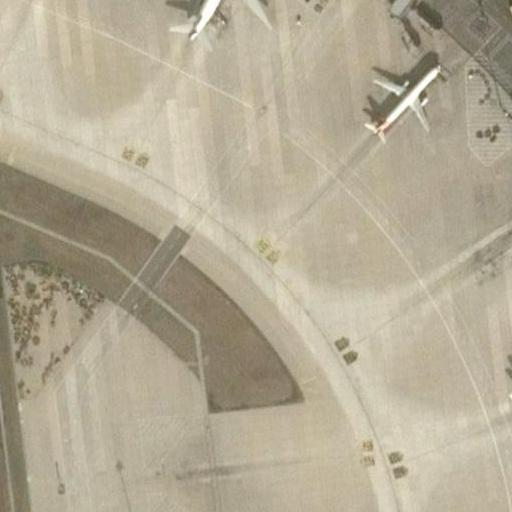Aircraft: (356, 52, 455, 148), (154, 0, 276, 60), (501, 320, 512, 453)
